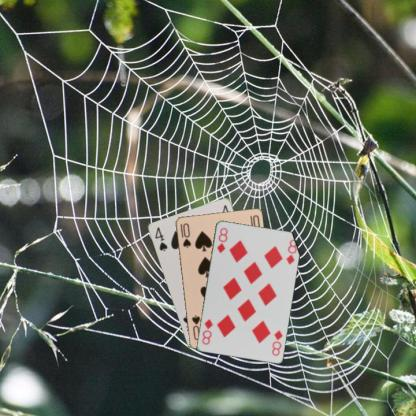10s: (177, 221, 192, 249)
4s: (152, 224, 168, 253)
8d: (214, 225, 229, 254), (269, 327, 284, 356)
